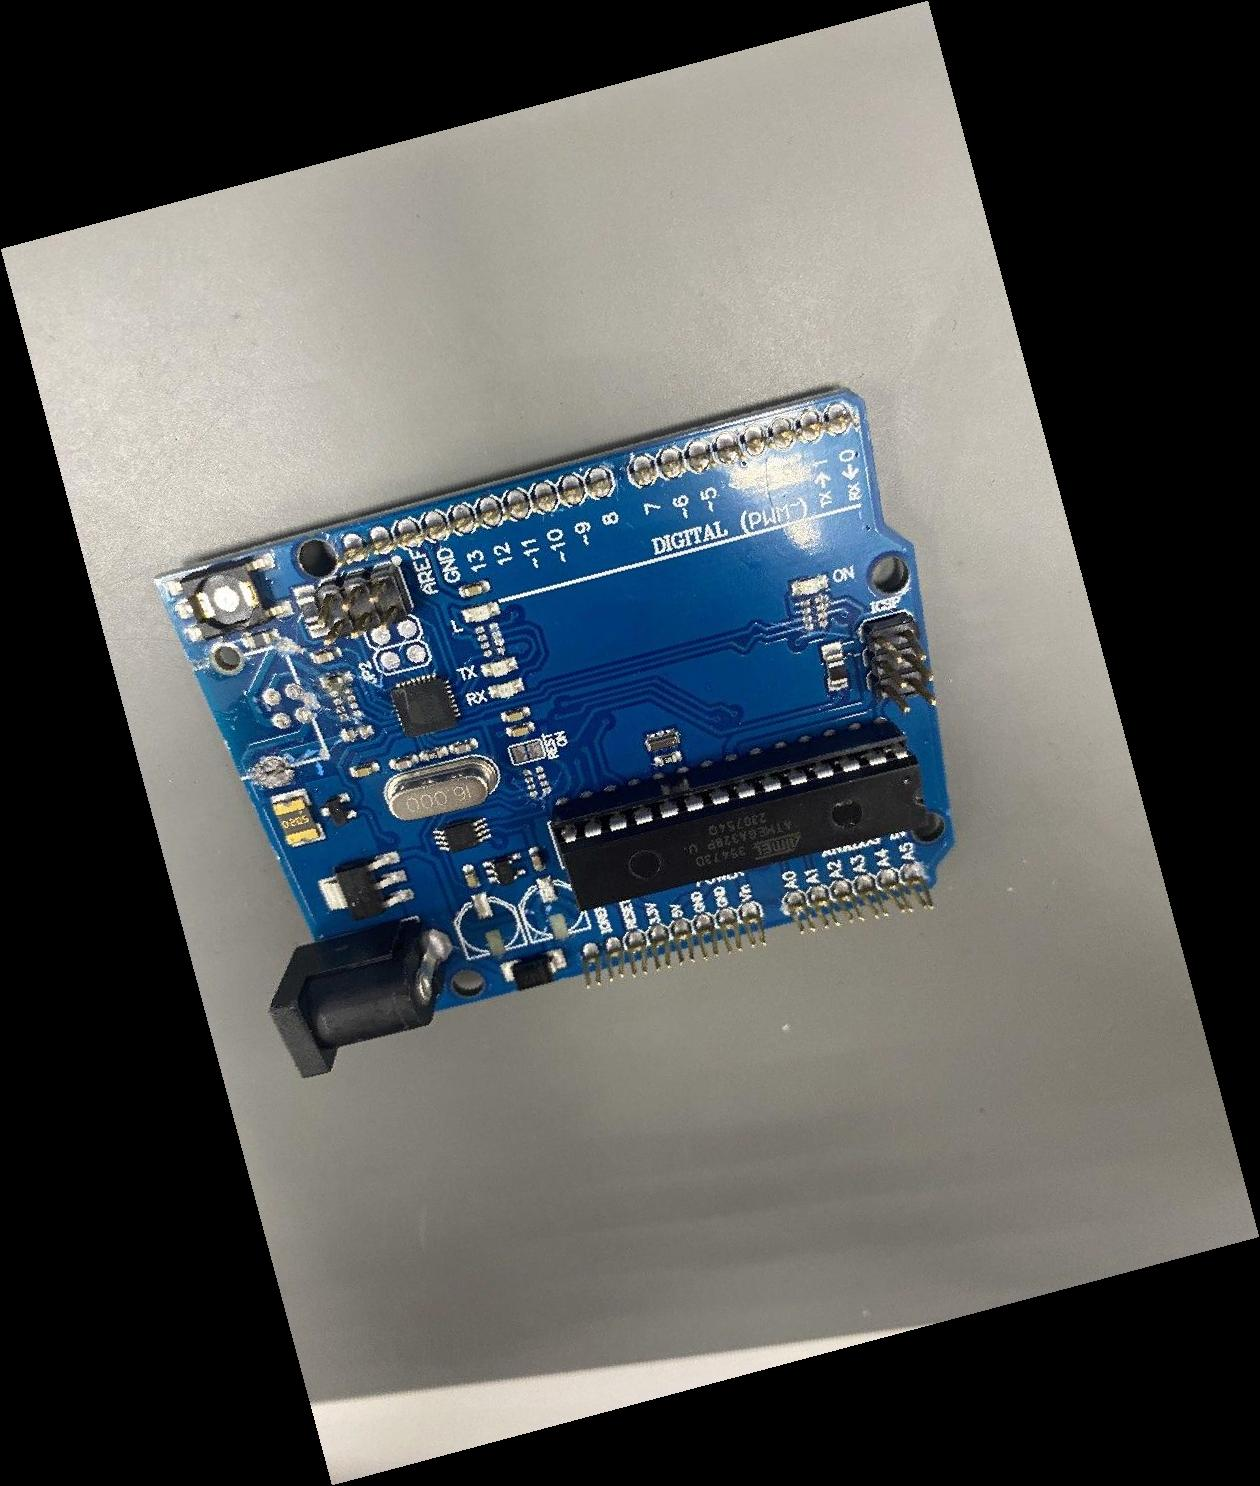ATmega328 chip: (552, 717, 931, 914)
Arduino board: (152, 386, 957, 1079)
